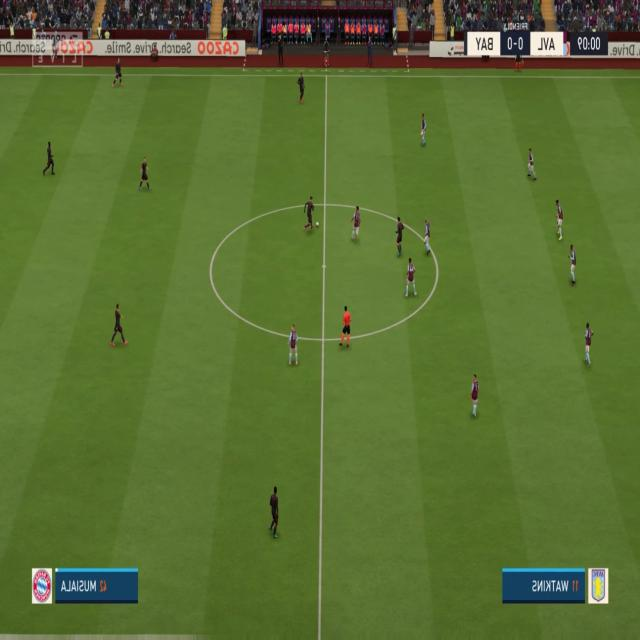Ball: (316, 222, 319, 228)
Referee: (339, 305, 352, 349)
Team-A: (110, 304, 128, 348), (268, 486, 278, 539), (138, 156, 151, 192), (42, 142, 55, 176), (303, 196, 315, 232), (395, 217, 405, 257), (111, 58, 122, 88), (297, 72, 305, 104)
Team-H: (404, 258, 418, 298), (287, 324, 299, 367), (468, 374, 479, 419), (349, 205, 362, 242), (584, 322, 594, 370), (568, 244, 577, 286), (423, 217, 432, 257), (555, 200, 563, 242), (527, 148, 537, 181), (420, 112, 426, 146)
